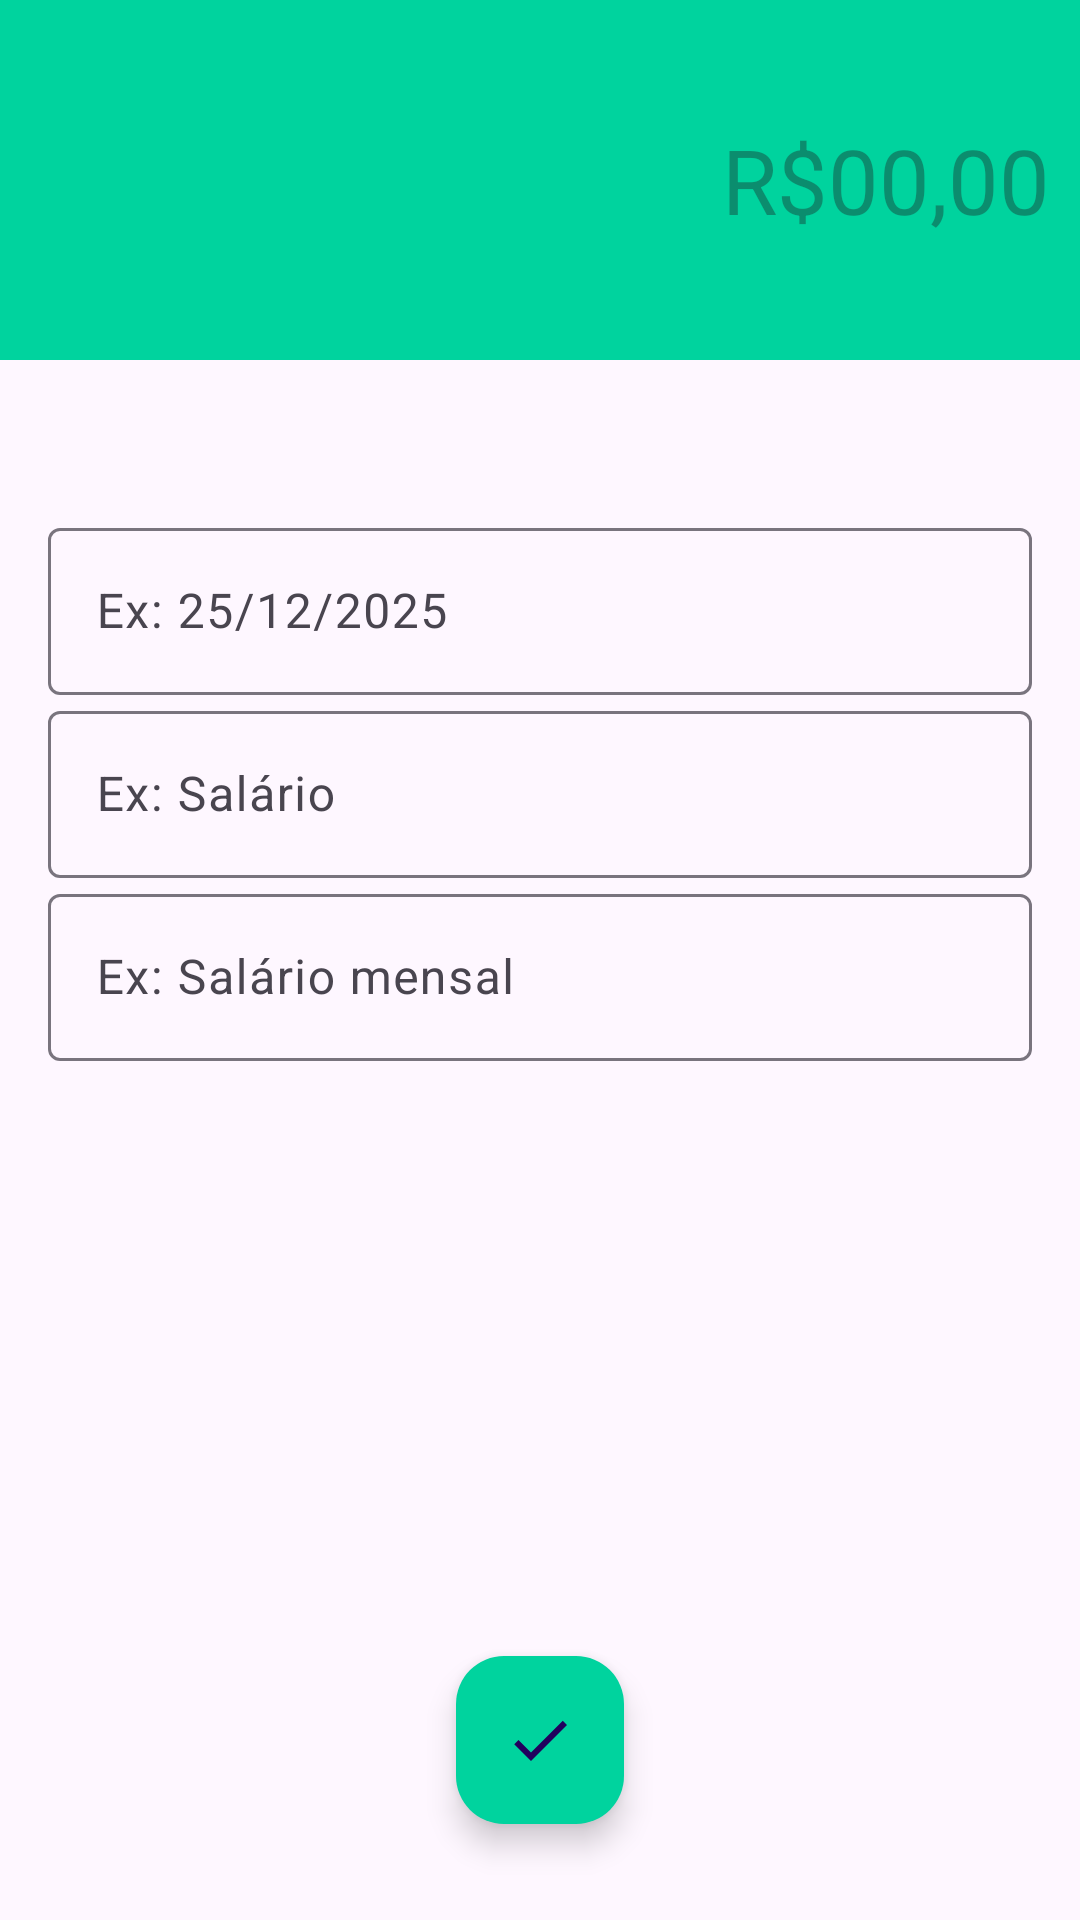

Where to tap for icons on this 1080×1920 app screen, as [x,y]:
confirmar branco: [540,1740]
